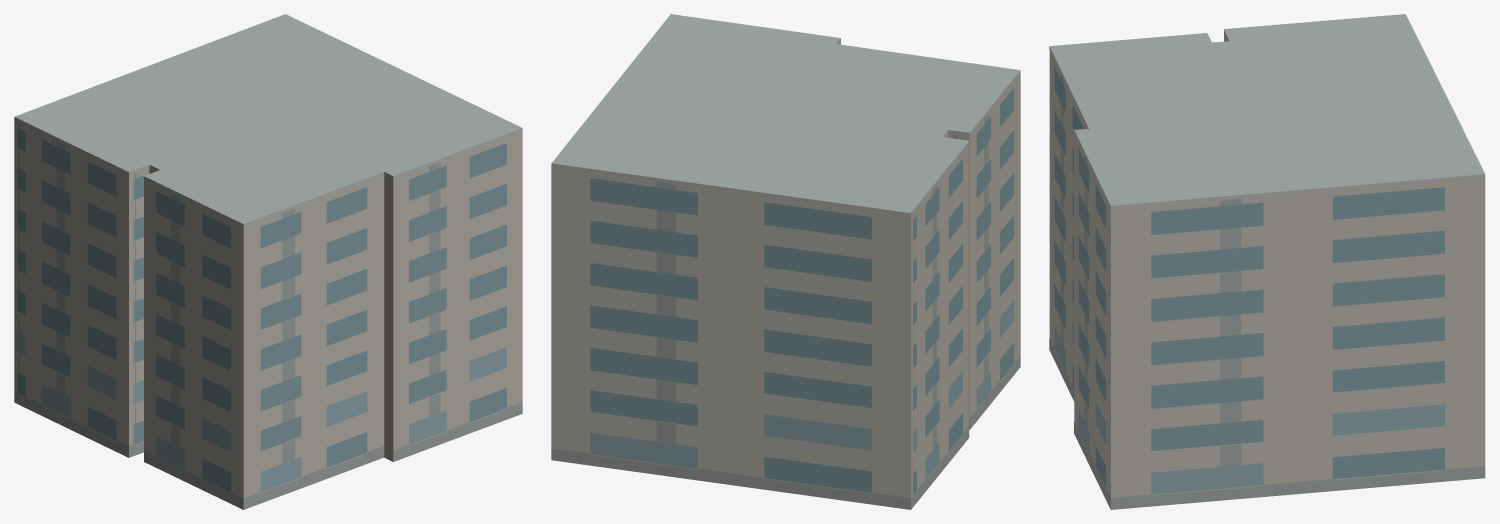
Rendered from survey-upis-32873794.glb.
3 renders of one model, left to right at view 1: azimuth 30°, elevation 25°; view 2: azimuth 150°, elevation 25°; view 3: azimuth 270°, elevation 25°, orthographic. The views are drawn at different scales.
Visible parts, largest first — view 1: survey-upis-32873794.tmp; view 2: survey-upis-32873794.tmp; view 3: survey-upis-32873794.tmp.
Part boxes in pixels (<box>): survey-upis-32873794.tmp: <box>14,14,522,509</box>; survey-upis-32873794.tmp: <box>551,14,1020,509</box>; survey-upis-32873794.tmp: <box>1049,14,1485,509</box>.
Size of the model in its own units: 25.61 by 18.9 by 24.57.
